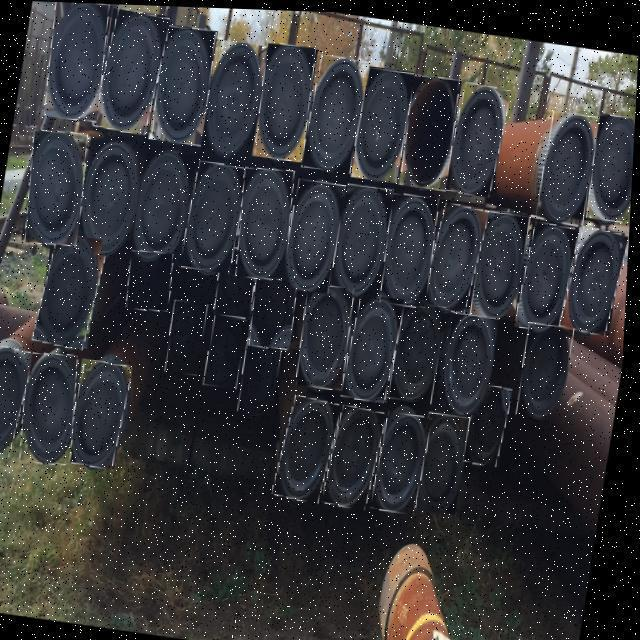pipe: (93, 7, 170, 134), (35, 232, 110, 349), (77, 138, 145, 258), (302, 52, 370, 170), (202, 39, 268, 158), (152, 24, 216, 143), (445, 78, 511, 193), (183, 159, 250, 272), (45, 2, 109, 119), (276, 392, 345, 500), (133, 147, 197, 263), (69, 358, 136, 468), (352, 64, 415, 180), (563, 221, 630, 330), (283, 176, 347, 290), (424, 199, 490, 309), (255, 41, 316, 159), (517, 217, 581, 329), (538, 106, 600, 220), (27, 130, 88, 245), (344, 291, 407, 400), (334, 181, 394, 294), (402, 72, 460, 187), (327, 402, 390, 507), (384, 191, 441, 305), (25, 352, 82, 464), (238, 165, 295, 277), (442, 308, 502, 412), (474, 207, 531, 316), (376, 408, 436, 511), (300, 281, 357, 387), (392, 297, 449, 400), (420, 409, 473, 510), (521, 318, 576, 415), (589, 110, 636, 218), (252, 256, 301, 346), (466, 379, 516, 462), (0, 344, 36, 456), (241, 337, 285, 413), (206, 313, 250, 387), (217, 245, 261, 317), (169, 298, 210, 373), (130, 249, 176, 310)
